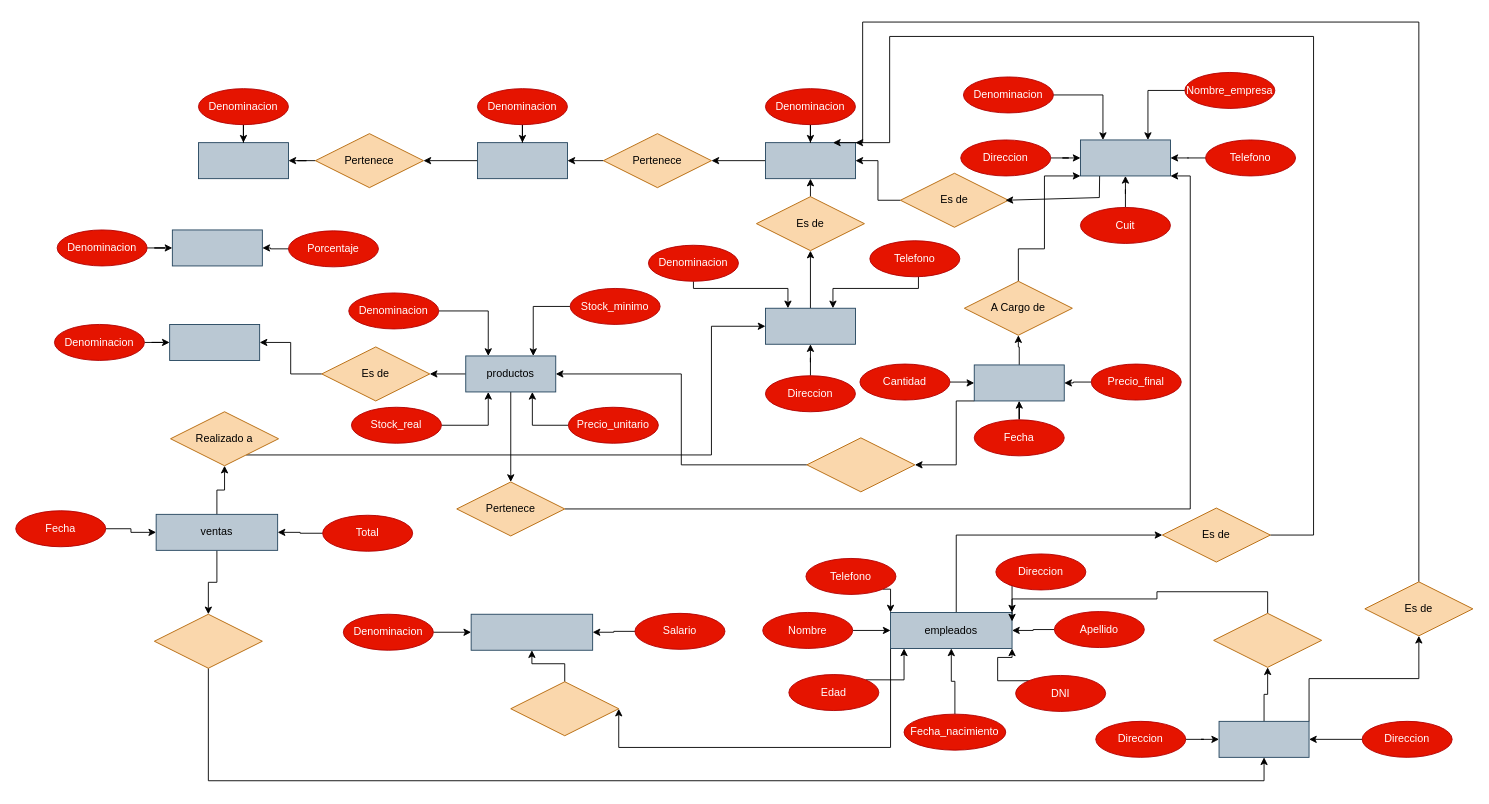
This 1489x804 diagram has some shape labels left out. The centre of each missing label's shape, as x and y in pixels:
"clientes" belongs at point 810,325.
"Compuesto Por" belongs at point 860,464.
"locales" belongs at point 1263,738.
"localidades" belongs at point 810,160.
"paises" belongs at point 243,160.
"pedidos" belongs at point 1018,382.
"posiciones_empleados" belongs at point 531,631.
"precios_lista" belongs at point 216,247.
"proveedores" belongs at point 1125,157.
"provincias" belongs at point 522,160.
"Realizado por" belongs at point 207,640.
"rubros" belongs at point 214,342.
"Su Cargo es" belongs at point 564,708.
"Su gerente es" belongs at point 1267,639.
